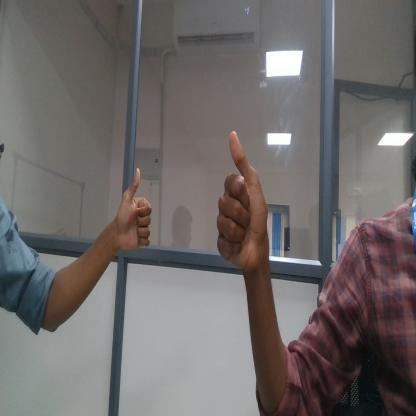Thumbs up: (212, 122, 274, 278), (108, 165, 161, 257)
